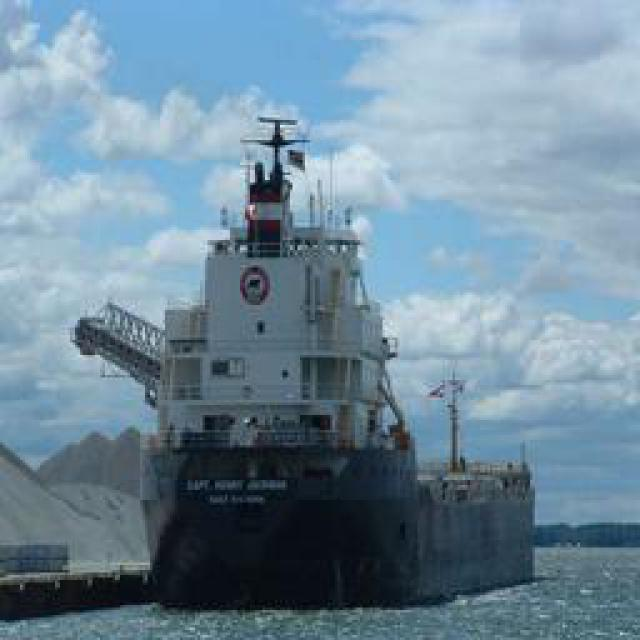Ship: (92, 99, 450, 612)
